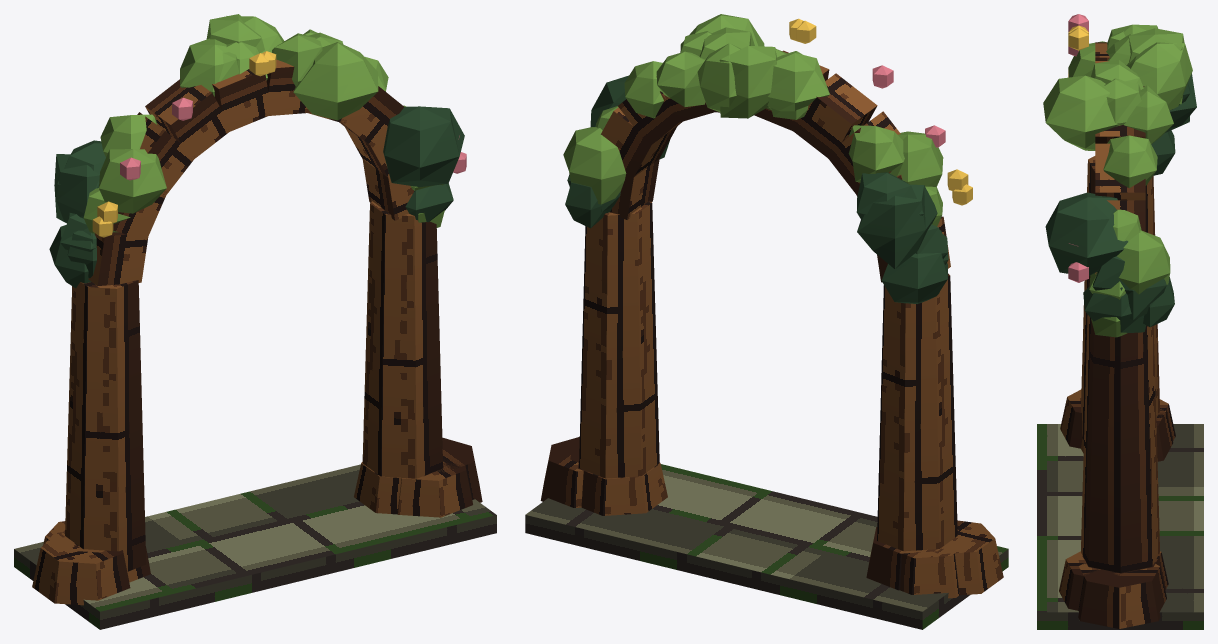
Rendered from vine_arch.glb.
The picture shows the model from 3 angles, left to right: view 1: azimuth 30°, elevation 25°; view 2: azimuth 150°, elevation 25°; view 3: azimuth 270°, elevation 25°; orthographic projection. The views are drawn at different scales.
Parts seen in each view (by area): view 1: vine_arch; view 2: vine_arch; view 3: vine_arch.
Part boxes in pixels (<box>): vine_arch: <box>14,14,496,629</box>; vine_arch: <box>525,14,1008,629</box>; vine_arch: <box>1037,14,1203,629</box>.
Bounding box in the file's own units: 3.56 × 3.99 × 1.2.
Materials: 3 (2 with a texture image).
